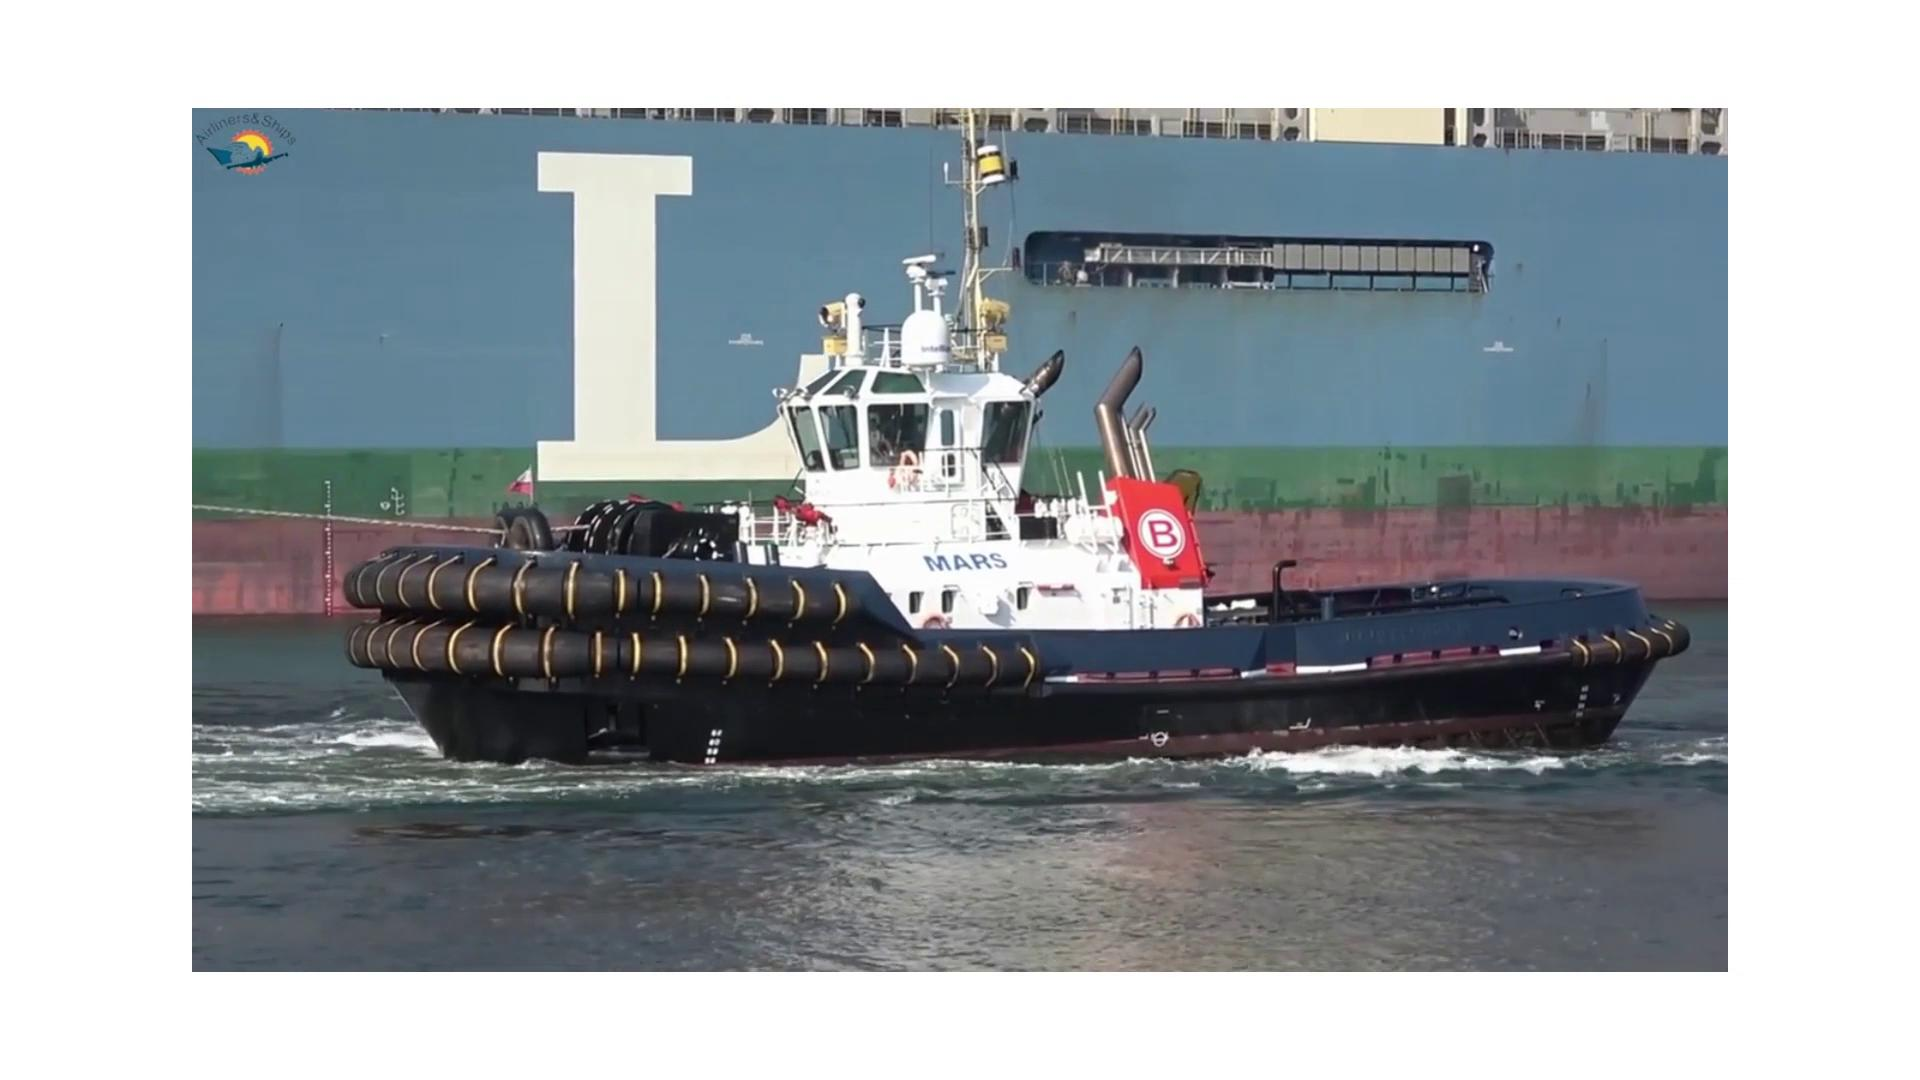OCR: (501, 123, 862, 518), (911, 521, 1011, 578)
